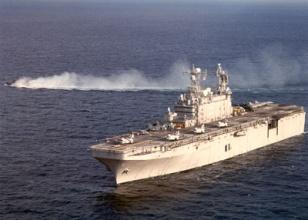warship: (90, 57, 304, 182)
